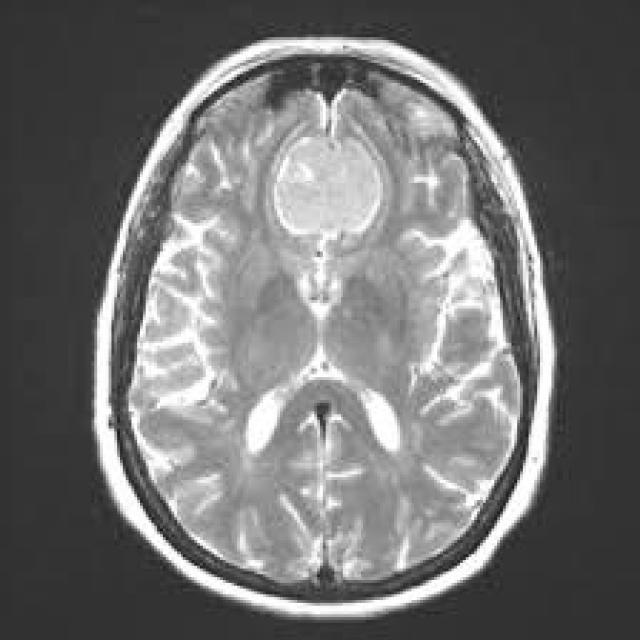meningioma_tumor: (258, 121, 399, 251)
